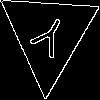Y: (23, 10, 71, 67)
